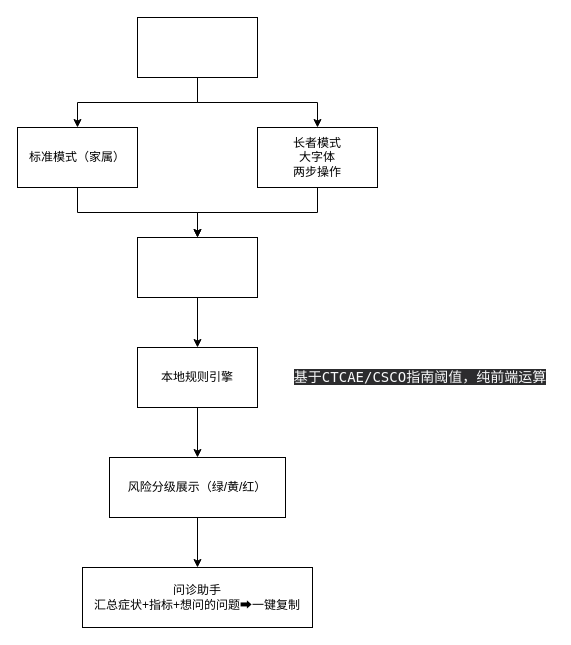
Image size: 571x645. Some labels were removed from this diagram. Each missing label, with the centre of its shape:
指标/症状录入: the point at 197,267
用户入口: the point at 197,47
